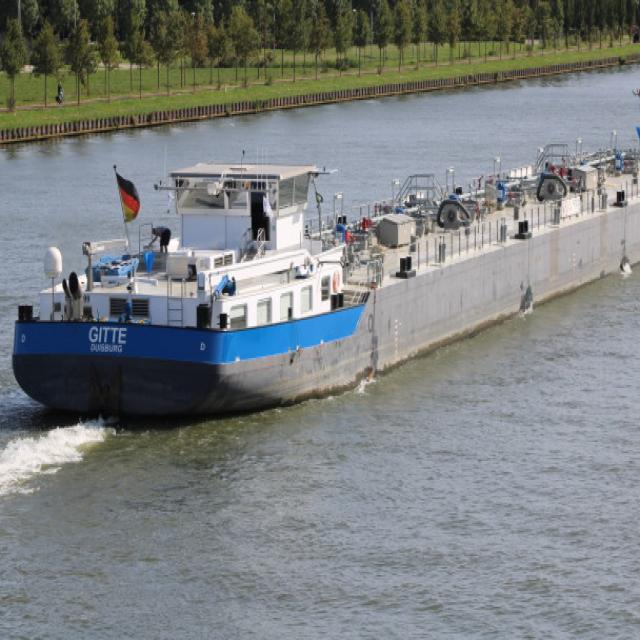tugboat: (6, 84, 640, 439)
